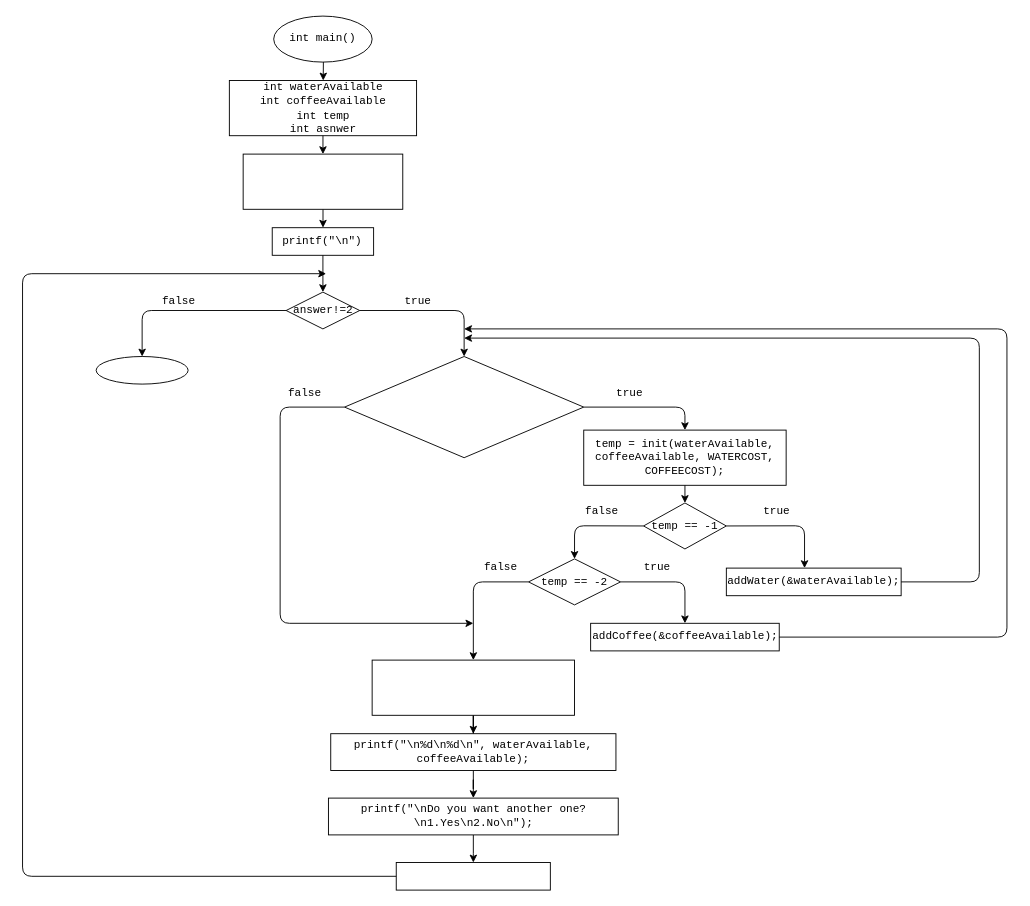
Image size: 1030x906. Some labels were removed from this diagram. The centre of each missing label's shape, as x and y in pixels:
input(&waterAvailable, &coffeeAvailable): (x=322, y=181)
mainFunc(&waterAvailable, &coffeeAvailable, WATERCOST, COFFEECOST);: (x=473, y=687)
return 0;: (x=141, y=370)
scanf("%d", &answer);: (x=472, y=876)
waterAvailable < WATERCOST || coffeeAvailable < COFFEECOST: (x=464, y=407)
